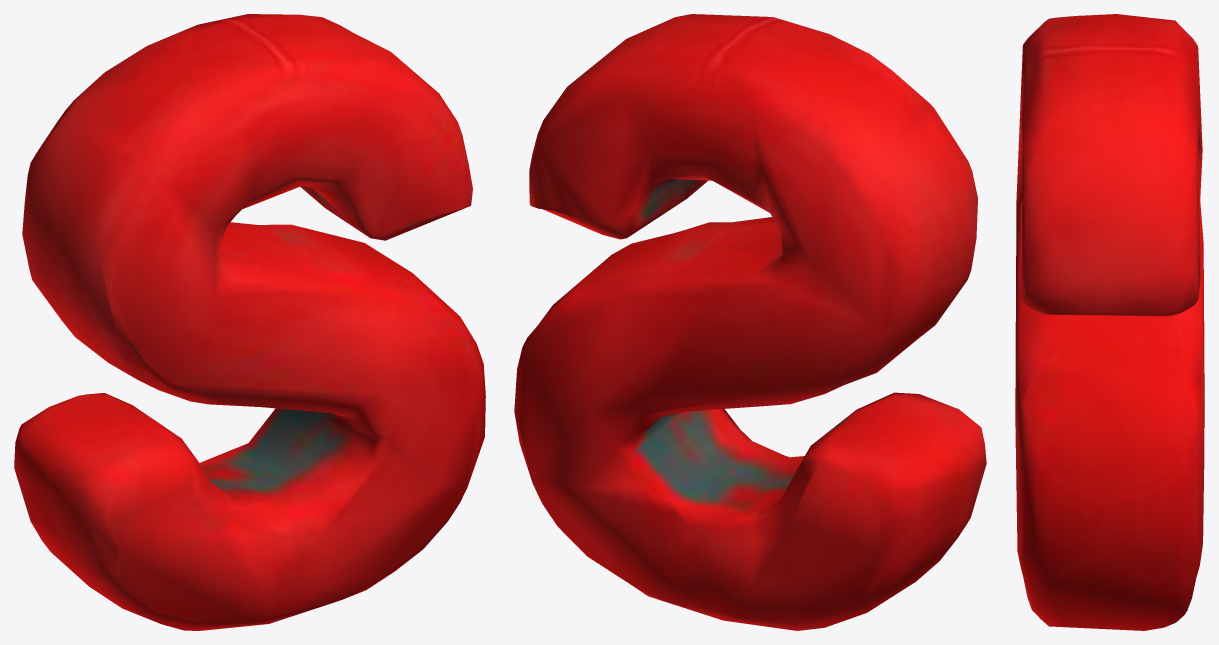
Rendered from letter_s.glb.
The picture shows the model from 3 angles, left to right: view 1: azimuth 30°, elevation 25°; view 2: azimuth 150°, elevation 25°; view 3: azimuth 270°, elevation 25°; orthographic projection.
Parts seen in each view (by area): view 1: tripo_node_7e06d262; view 2: tripo_node_7e06d262; view 3: tripo_node_7e06d262.
Boxes of the visible parts, left/top/right/bottom form: tripo_node_7e06d262: left=14, top=14, right=485, bottom=630; tripo_node_7e06d262: left=514, top=14, right=986, bottom=630; tripo_node_7e06d262: left=1015, top=14, right=1204, bottom=630.
Bounding box in the file's own units: 0.7488 × 0.9766 × 0.3008.
Materials: 1 (1 with a texture image).
